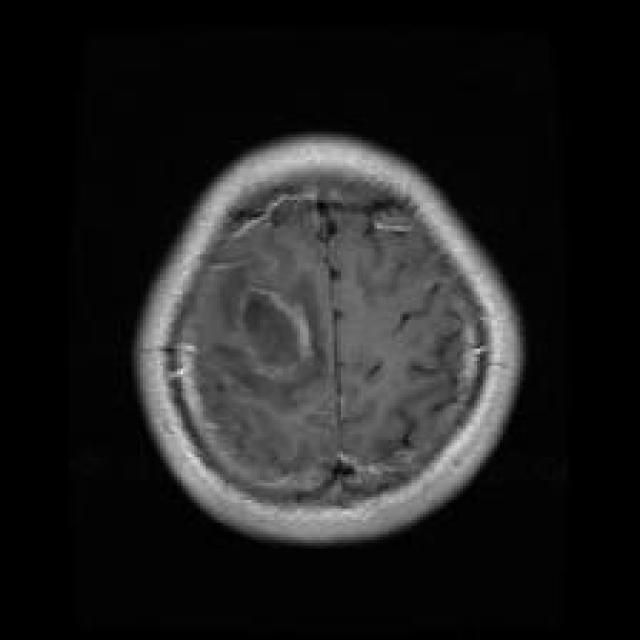glioma_tumor: (210, 271, 333, 402)
